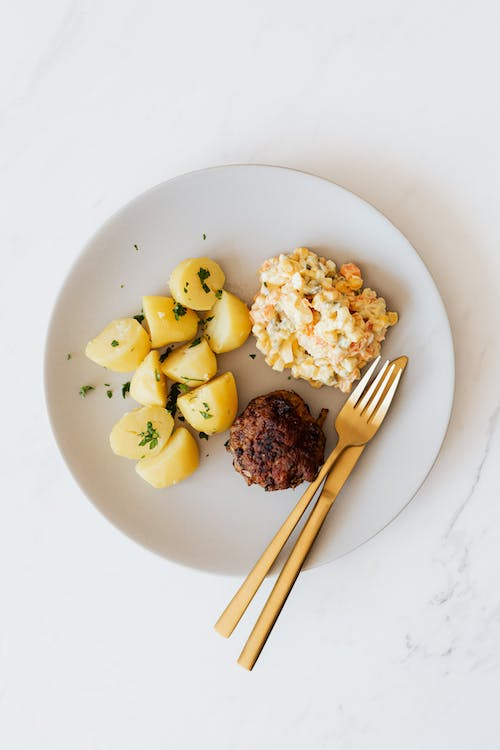knife: (233, 351, 410, 673)
